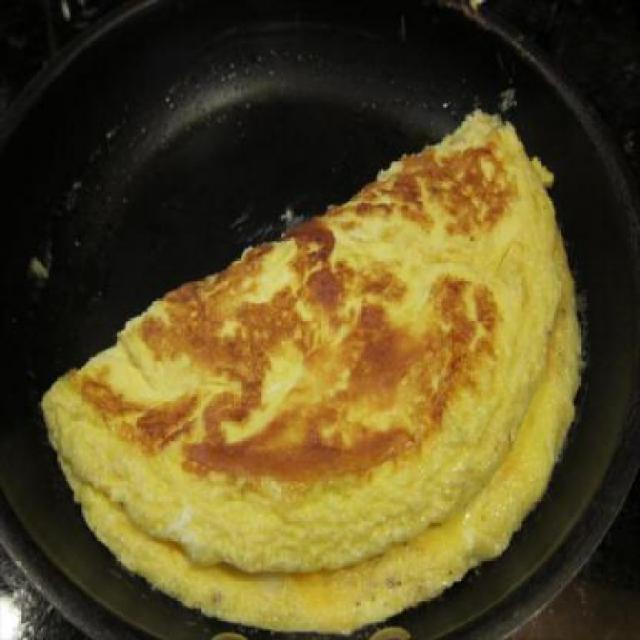Pancake: (32, 146, 602, 640)
